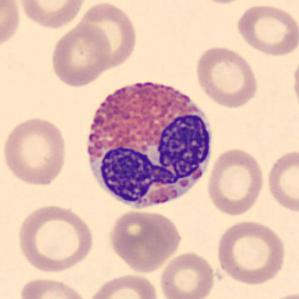Eosinophil: (76, 68, 219, 217)
RBC: (14, 202, 96, 274), (106, 208, 184, 274), (214, 218, 288, 286), (1, 114, 69, 188), (76, 0, 140, 70), (193, 44, 260, 110), (48, 21, 113, 88), (205, 146, 266, 217), (233, 2, 298, 57), (158, 250, 217, 299), (265, 147, 298, 215), (15, 0, 86, 29), (87, 272, 162, 299), (17, 275, 90, 299), (0, 0, 22, 51), (290, 52, 299, 113), (188, 0, 254, 6), (263, 289, 299, 299)
